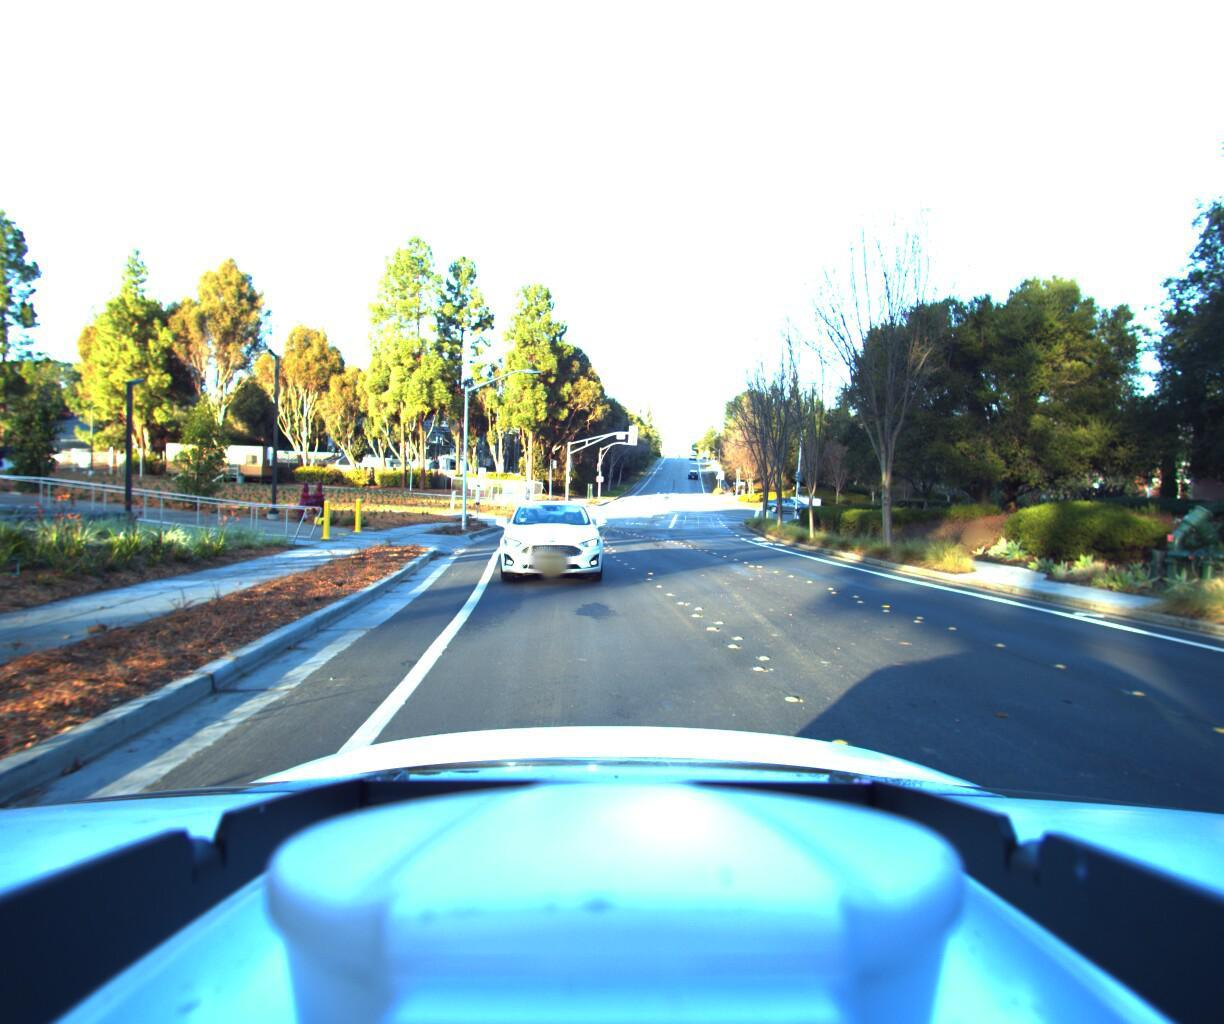car: (477, 487, 609, 603), (761, 492, 817, 513)
